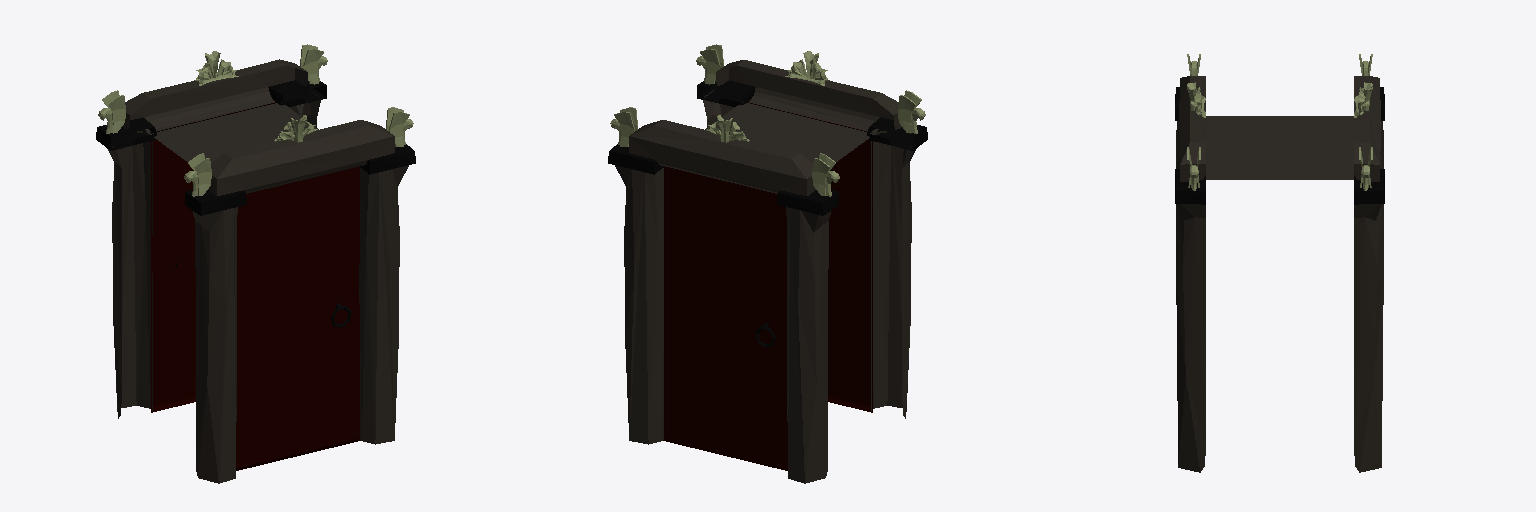
Rendered from Door_Closed.obj.
3 renders of one model, left to right at view 1: azimuth 30°, elevation 25°; view 2: azimuth 150°, elevation 25°; view 3: azimuth 270°, elevation 25°, orthographic.
Visible parts, largest first — view 1: Cube.001_Cube.007; view 2: Cube.001_Cube.007; view 3: Cube.001_Cube.007.
Boxes of the visible parts, x1=… form: Cube.001_Cube.007: x1=96, y1=44, x2=415, y2=483; Cube.001_Cube.007: x1=608, y1=44, x2=927, y2=483; Cube.001_Cube.007: x1=1175, y1=54, x2=1384, y2=472.
Size of the model in its own units: 1.74 by 2.5 by 1.39.